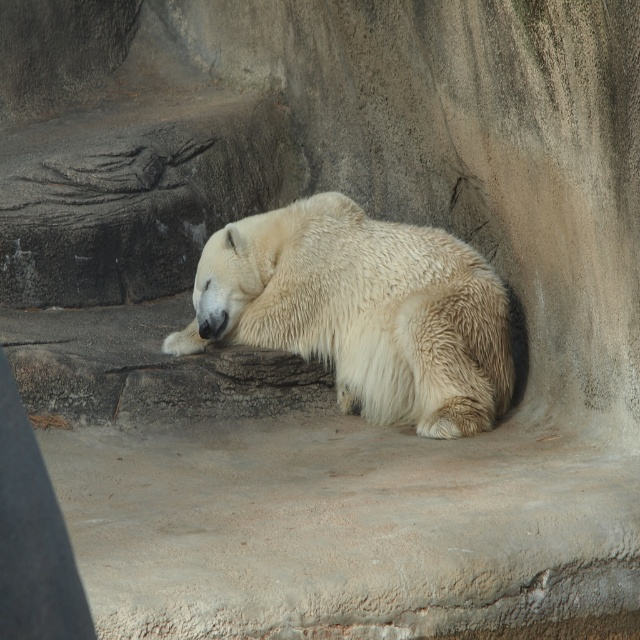Polar bear: (161, 191, 519, 440)
